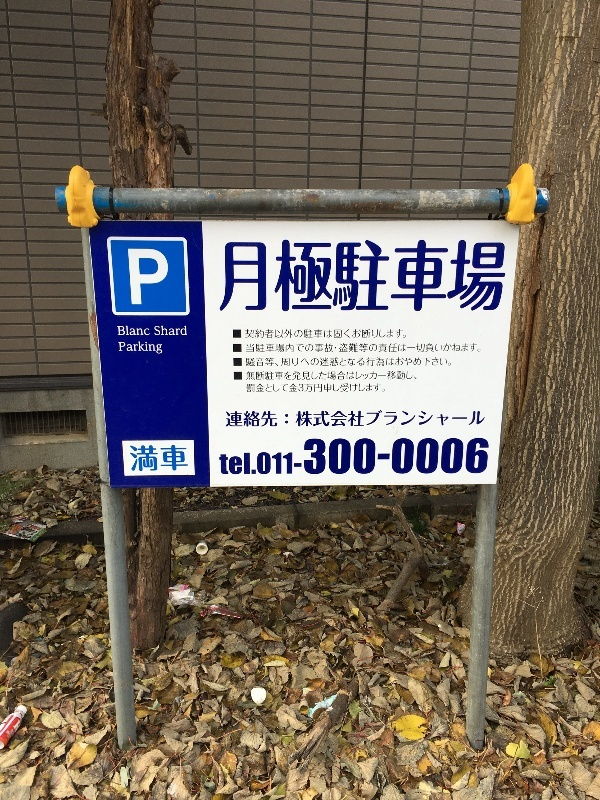text: (225, 241, 240, 321), (241, 241, 256, 321), (257, 241, 272, 321), (273, 241, 288, 321), (289, 241, 304, 321), (305, 241, 320, 321), (321, 241, 336, 321), (337, 241, 352, 321), (353, 241, 368, 321), (369, 241, 384, 321), (385, 241, 400, 321), (401, 241, 416, 321), (417, 241, 432, 321), (433, 241, 448, 321), (449, 241, 464, 321), (465, 241, 480, 321), (481, 241, 496, 321), (497, 241, 511, 321), (129, 246, 144, 308), (145, 246, 160, 308), (305, 435, 320, 478), (321, 435, 336, 478), (337, 435, 352, 478), (353, 435, 368, 478), (369, 435, 384, 478), (385, 435, 400, 478), (401, 435, 416, 478), (417, 435, 432, 478), (433, 435, 448, 478), (449, 435, 464, 478), (465, 435, 480, 478), (161, 246, 170, 308), (129, 442, 144, 475), (145, 442, 160, 475), (161, 442, 176, 475), (225, 450, 240, 479), (241, 450, 256, 479), (257, 450, 272, 479), (273, 450, 288, 479), (177, 442, 190, 475), (289, 450, 303, 479), (481, 435, 490, 478), (225, 409, 240, 431), (241, 409, 256, 431), (257, 409, 272, 431), (273, 409, 288, 431), (289, 409, 304, 431), (305, 409, 320, 431), (321, 409, 336, 431), (337, 409, 352, 431), (353, 409, 368, 431), (369, 409, 384, 431), (385, 409, 400, 431), (401, 409, 416, 431), (417, 409, 432, 431), (433, 409, 448, 431), (449, 409, 464, 431), (465, 409, 480, 431), (161, 322, 176, 340), (129, 323, 144, 340), (257, 341, 272, 358), (273, 341, 288, 358), (289, 341, 304, 358), (305, 341, 320, 358), (321, 341, 336, 358), (337, 341, 352, 358), (353, 341, 368, 358), (369, 341, 384, 358), (385, 341, 400, 358), (401, 341, 416, 358), (417, 341, 432, 358), (433, 341, 448, 358), (449, 341, 464, 358), (465, 341, 480, 358), (129, 340, 144, 356), (145, 340, 160, 356), (257, 381, 272, 397), (273, 381, 288, 397), (289, 381, 304, 397), (305, 381, 320, 397), (321, 381, 336, 397), (337, 381, 352, 397), (353, 381, 368, 397), (369, 381, 384, 397), (257, 326, 272, 341), (273, 326, 288, 341), (289, 326, 304, 341), (305, 326, 320, 341), (321, 326, 336, 341), (337, 326, 352, 341), (353, 326, 368, 341), (369, 326, 384, 341), (385, 326, 400, 341), (177, 322, 189, 340), (257, 357, 272, 371), (273, 357, 288, 371), (289, 357, 304, 371), (305, 357, 320, 371), (321, 357, 336, 371), (337, 357, 352, 371), (353, 357, 368, 371), (369, 357, 384, 371), (385, 357, 400, 371), (401, 357, 416, 371), (417, 357, 432, 371), (433, 357, 448, 371), (116, 323, 128, 340), (257, 370, 272, 383), (273, 370, 288, 383), (289, 370, 304, 383), (305, 370, 320, 383), (321, 370, 336, 383), (337, 370, 352, 383), (353, 370, 368, 383), (369, 370, 384, 383), (385, 370, 400, 383), (401, 370, 416, 383), (244, 326, 256, 341), (246, 341, 256, 358), (222, 241, 224, 321), (245, 357, 256, 371), (481, 409, 488, 431), (219, 450, 224, 479), (119, 340, 128, 356), (247, 381, 256, 397), (245, 370, 256, 383), (126, 246, 128, 308), (154, 322, 160, 340), (401, 326, 408, 341), (145, 323, 151, 340), (161, 340, 165, 356), (449, 357, 453, 371), (481, 341, 483, 358), (385, 381, 386, 397), (417, 370, 418, 383)
